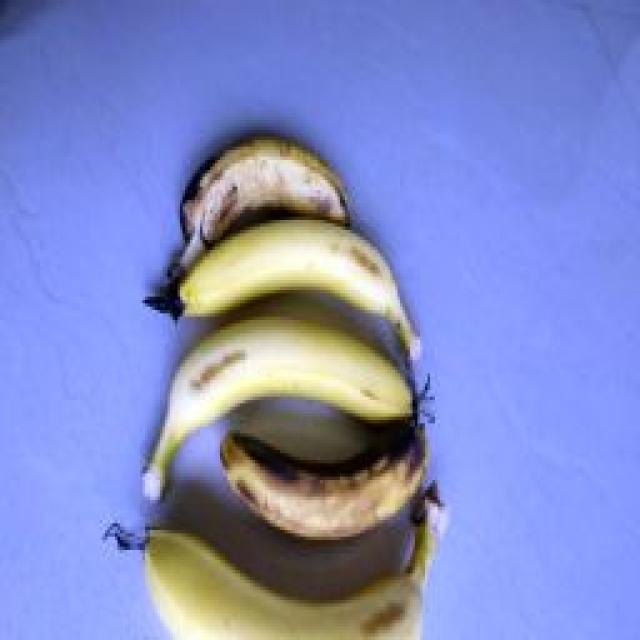Wet: (212, 413, 430, 547), (165, 127, 350, 280)
